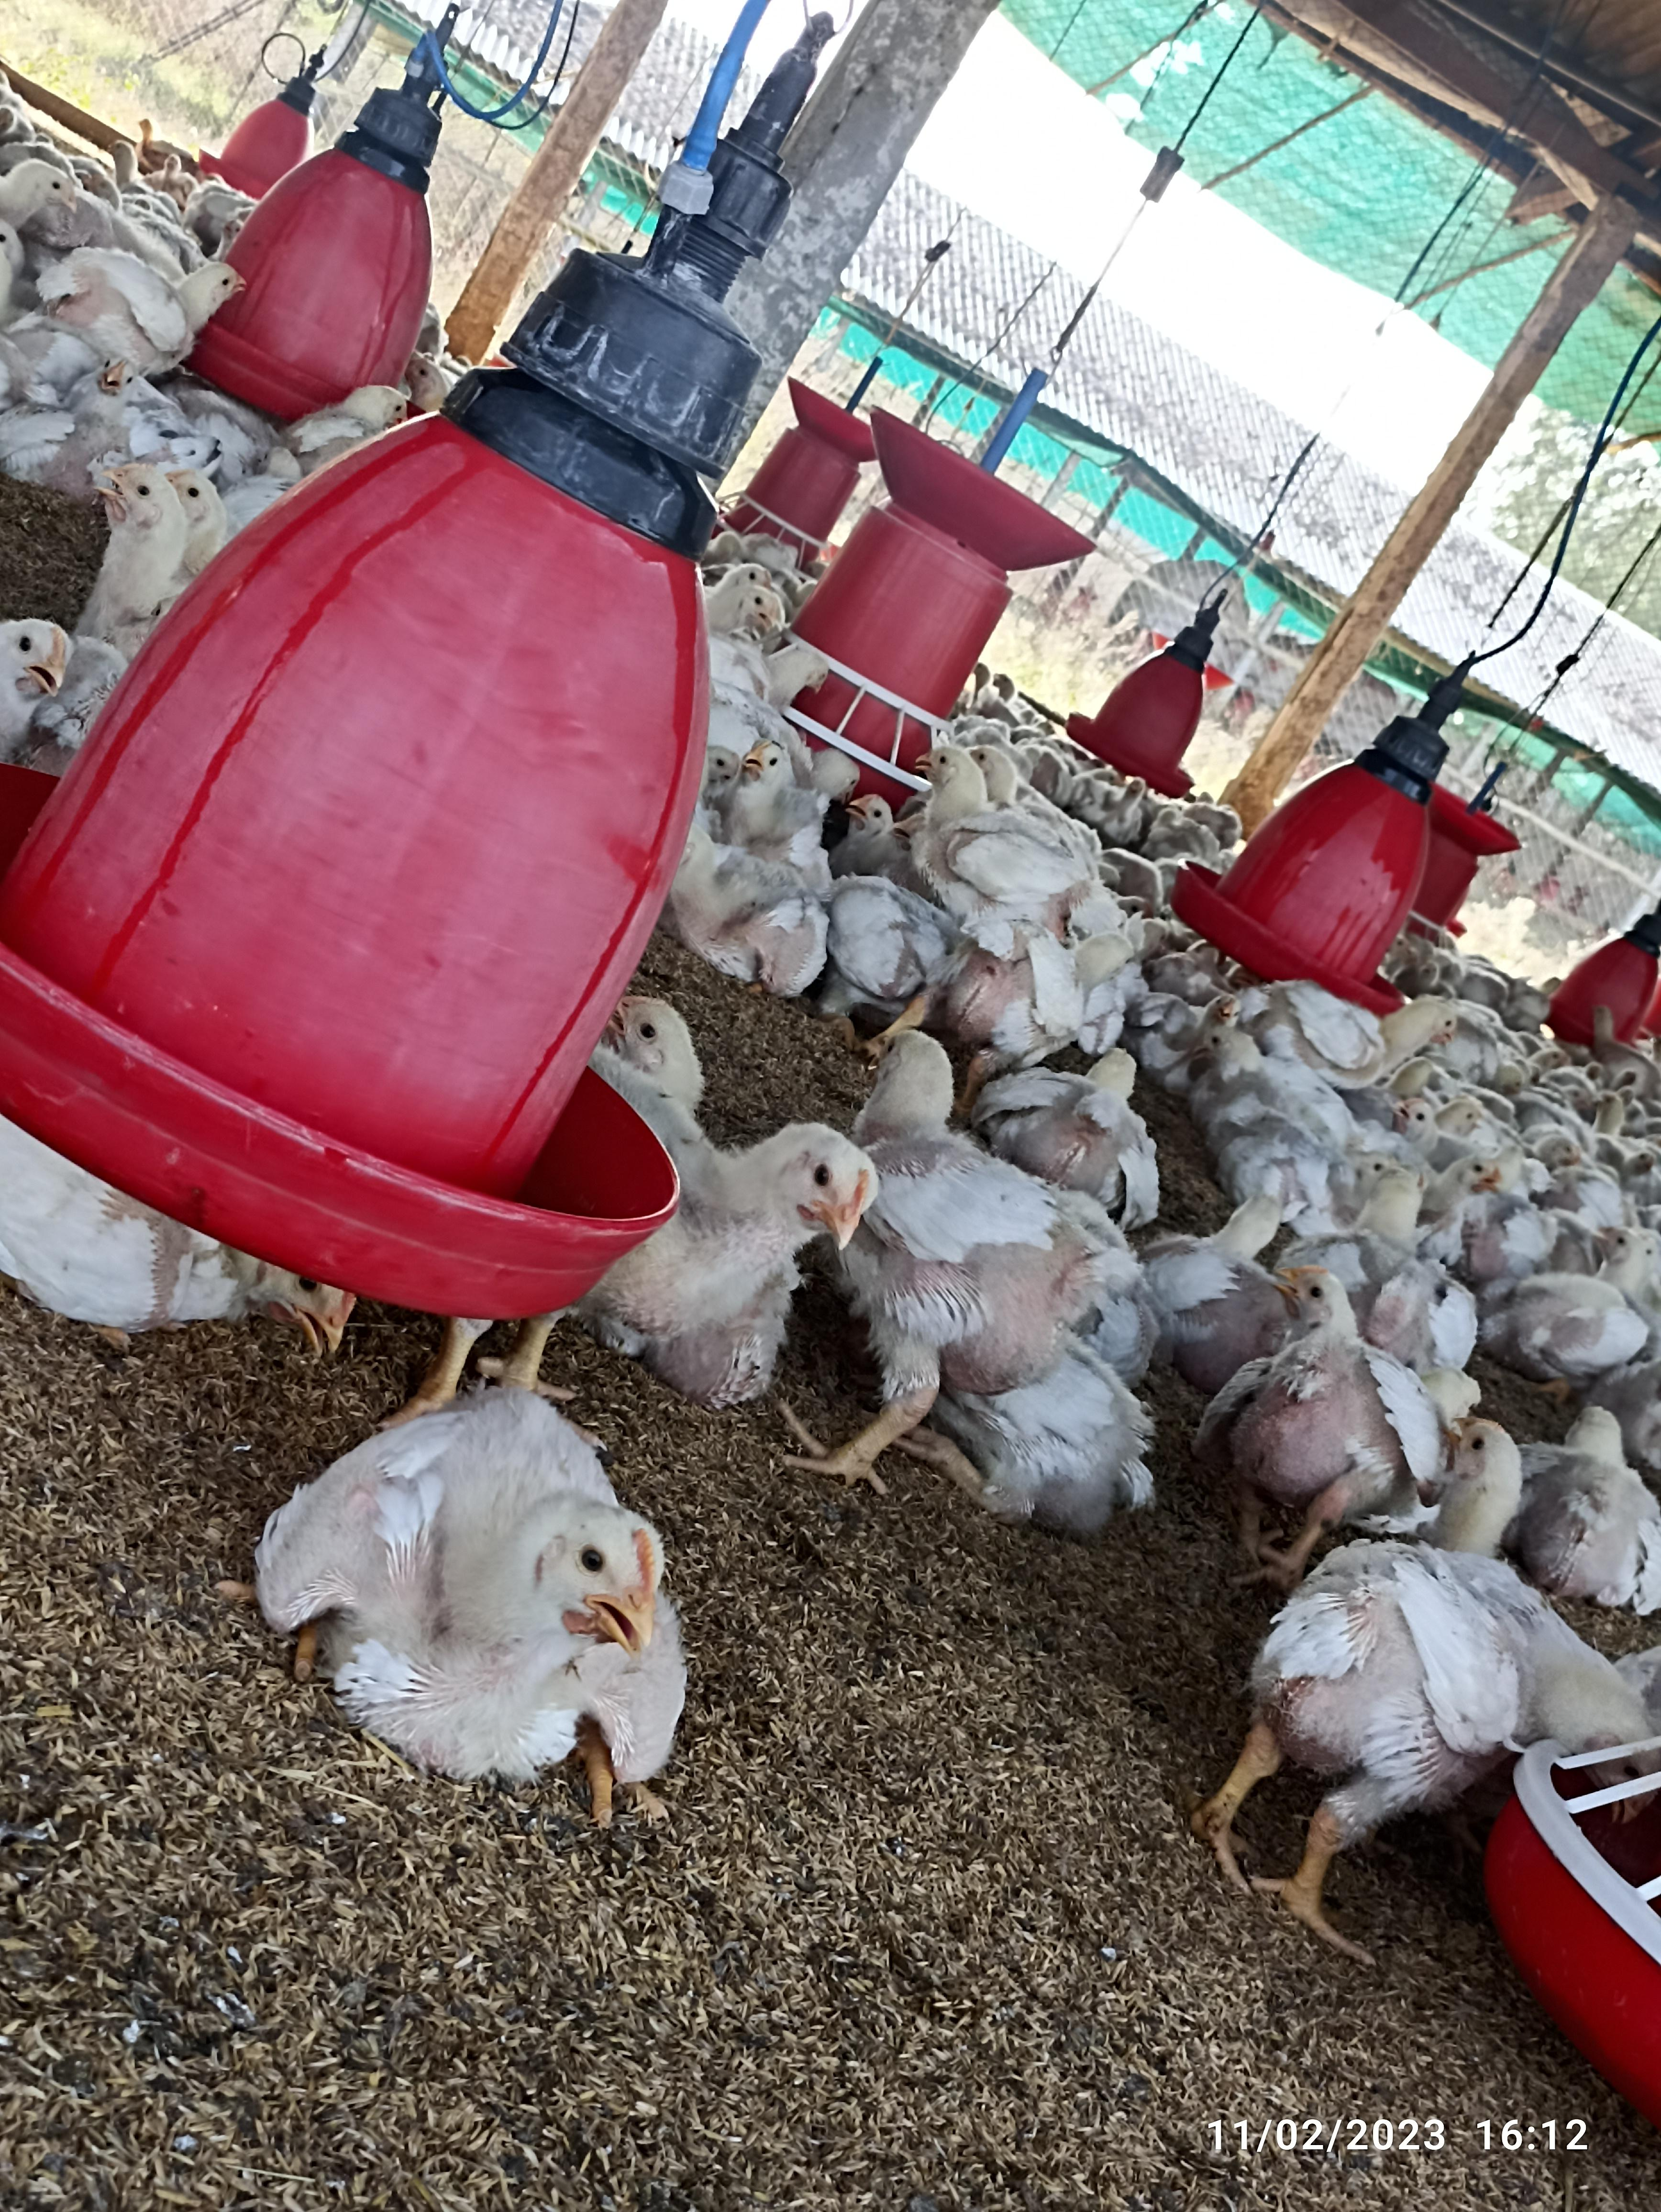Pollos: (288, 1406, 696, 1785), (1263, 1413, 1588, 1828), (844, 1048, 1136, 1427), (619, 1123, 879, 1399), (1253, 1265, 1439, 1504), (902, 734, 1101, 932), (38, 249, 248, 368)
